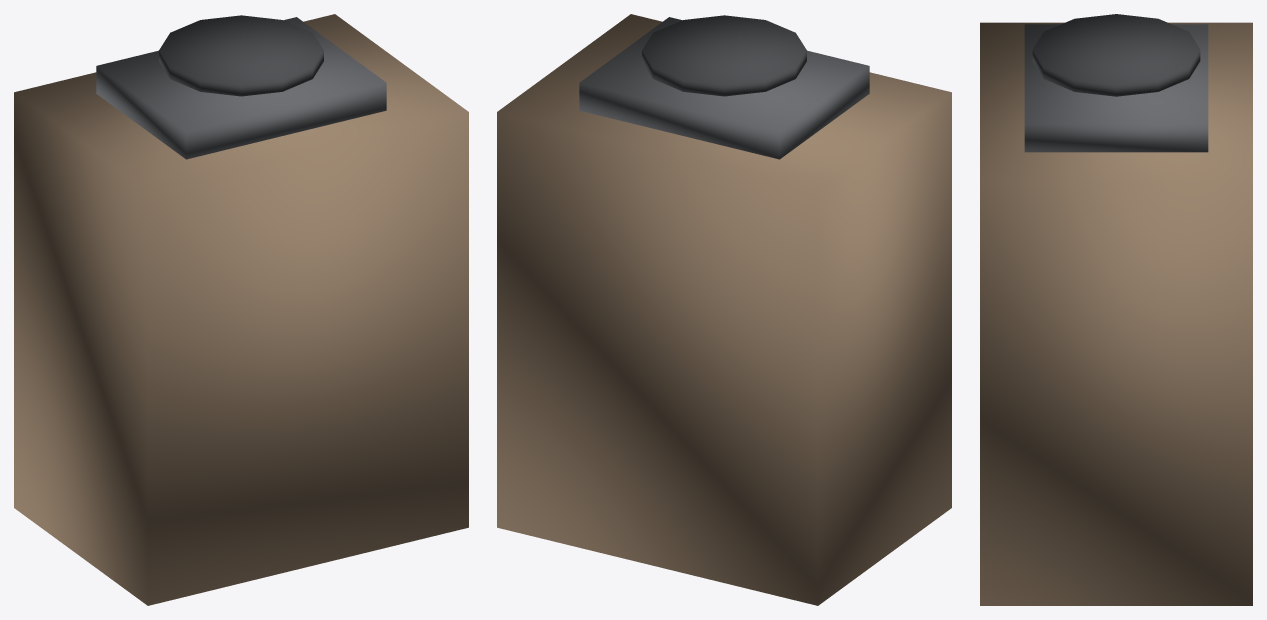
Rendered from record_store_listening_station__reinforced.glb.
3 renders of one model, left to right at view 1: azimuth 30°, elevation 25°; view 2: azimuth 150°, elevation 25°; view 3: azimuth 270°, elevation 25°, orthographic.
Visible parts, largest first — view 1: world; view 2: world; view 3: world.
Part boxes in pixels (x1=…): world: x1=14, y1=14, x2=468, y2=605; world: x1=497, y1=14, x2=951, y2=605; world: x1=980, y1=14, x2=1252, y2=605.
Bounding box in the file's own units: 0.7416 × 1.03 × 0.5356.
